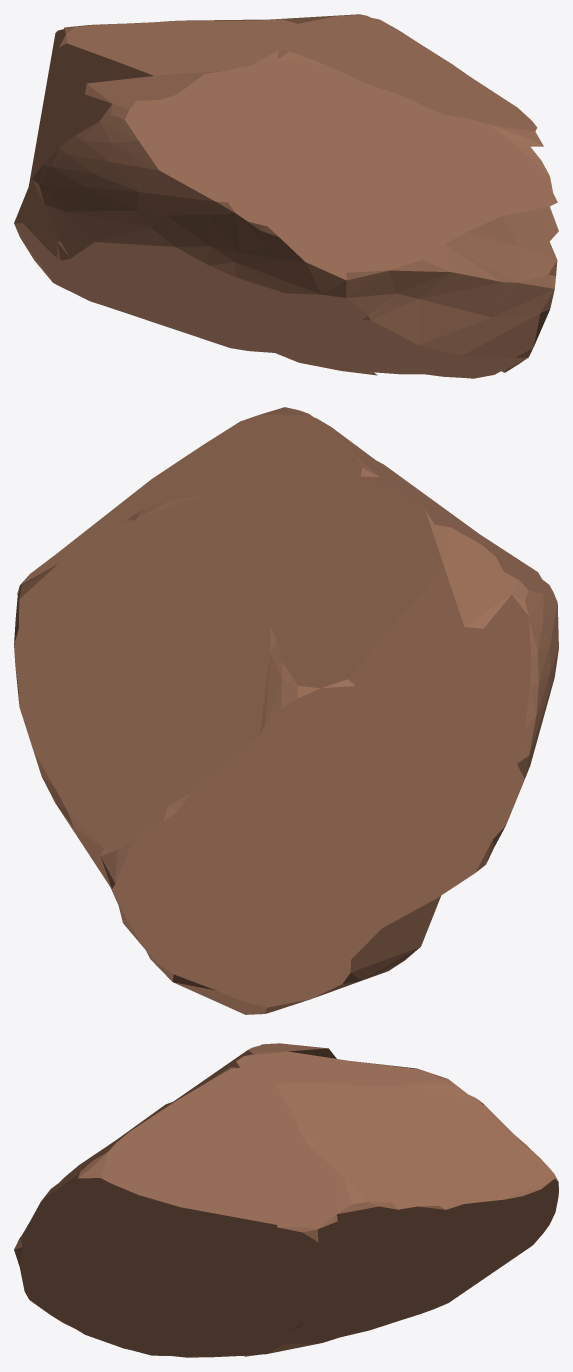
The model's file is rock1.fbx.
The picture shows the model from 3 angles, top to bottom: view 1: azimuth 30°, elevation 25°; view 2: azimuth 150°, elevation 25°; view 3: azimuth 270°, elevation 25°; orthographic projection. The views are drawn at different scales.
Parts seen in each view (by area): view 1: Cube.001; view 2: Cube.001; view 3: Cube.001.
Part boxes in pixels (x1=…): Cube.001: x1=14, y1=14, x2=558, y2=378; Cube.001: x1=14, y1=407, x2=558, y2=1014; Cube.001: x1=14, y1=1043, x2=558, y2=1357.
Size of the model in its own units: 172 by 131 by 255.
